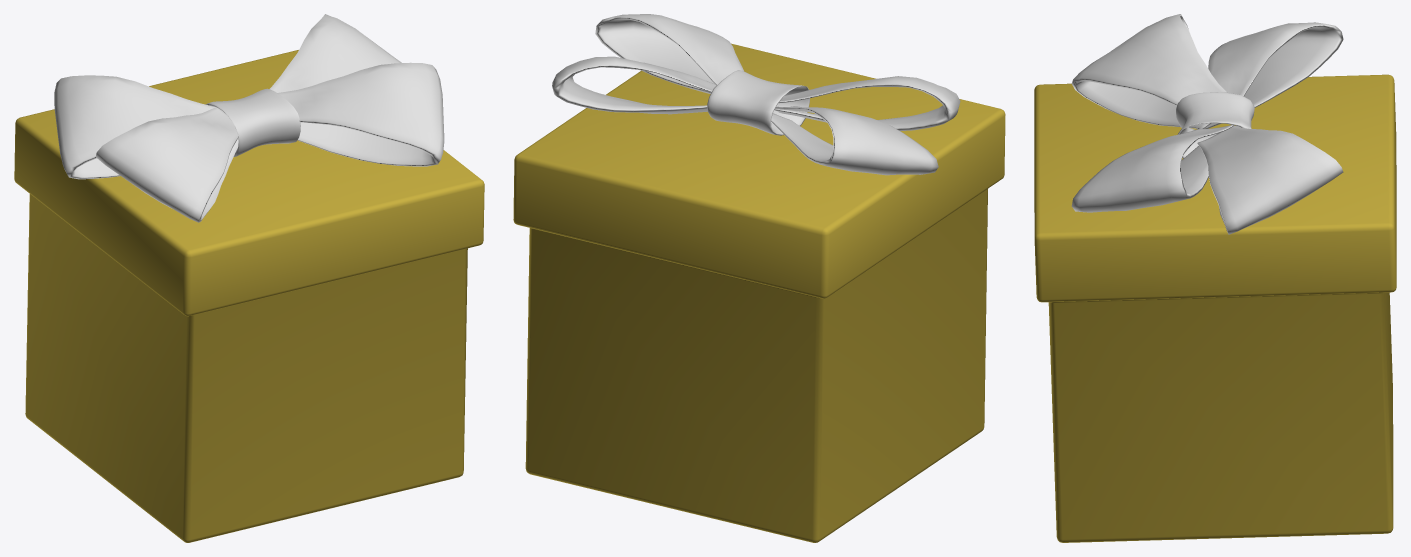
The model's file is MelchorRegalo.fbx.
3 views of the same model, side by side, from view 1: azimuth 30°, elevation 25°; view 2: azimuth 150°, elevation 25°; view 3: azimuth 270°, elevation 25° (orthographic). The views are drawn at different scales.
Visible parts, largest first — view 1: RIBBON2.001; view 2: RIBBON2.001; view 3: RIBBON2.001.
Part boxes in pixels (left/top/right/bottom): RIBBON2.001: left=14, top=14, right=484, bottom=542; RIBBON2.001: left=513, top=14, right=1005, bottom=542; RIBBON2.001: left=1034, top=14, right=1396, bottom=542.
Bounding box in the file's own units: 46.28 × 46.59 × 39.14.
